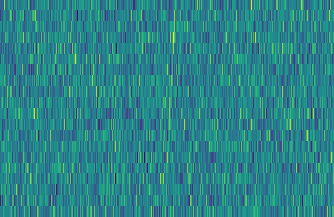signal: (160, 0, 179, 217)
